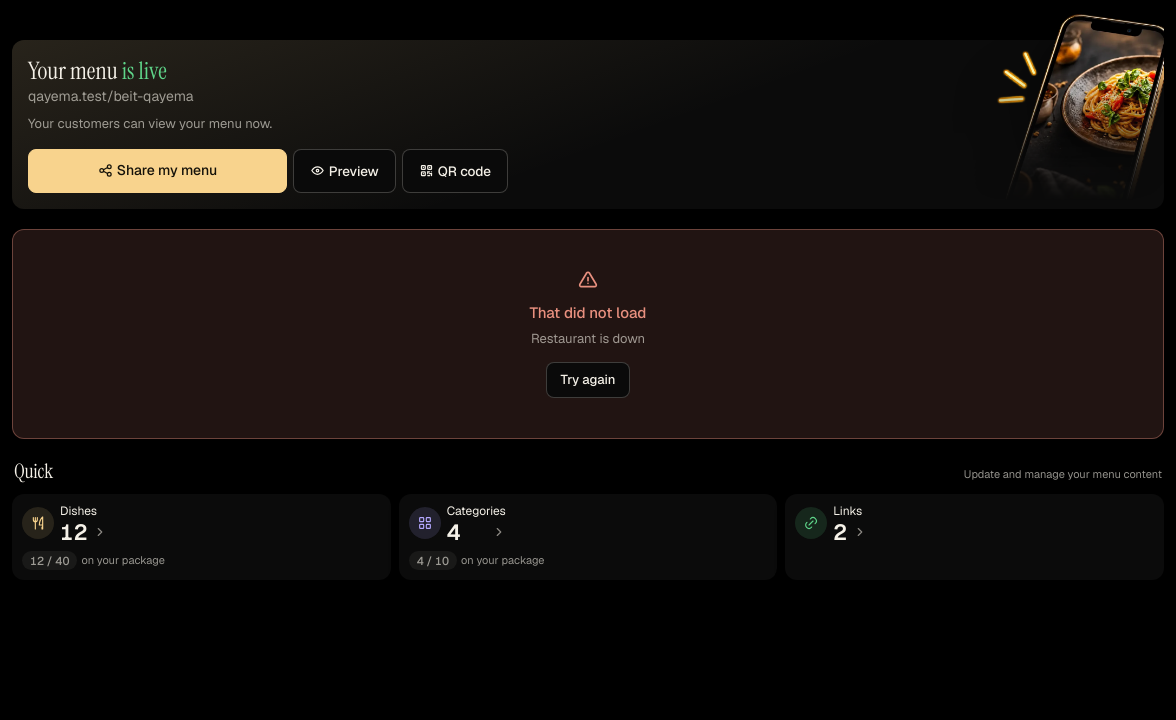
Test: OverviewPage › asks for the restaurant again on a retry, with its message
This screenshot has width=1176, height=720.
Check: the text "Restaurant is down" is shown, box 531,328 -> 645,350
Click the button "Try again".
click(588, 380)  # box 546,362 -> 630,398
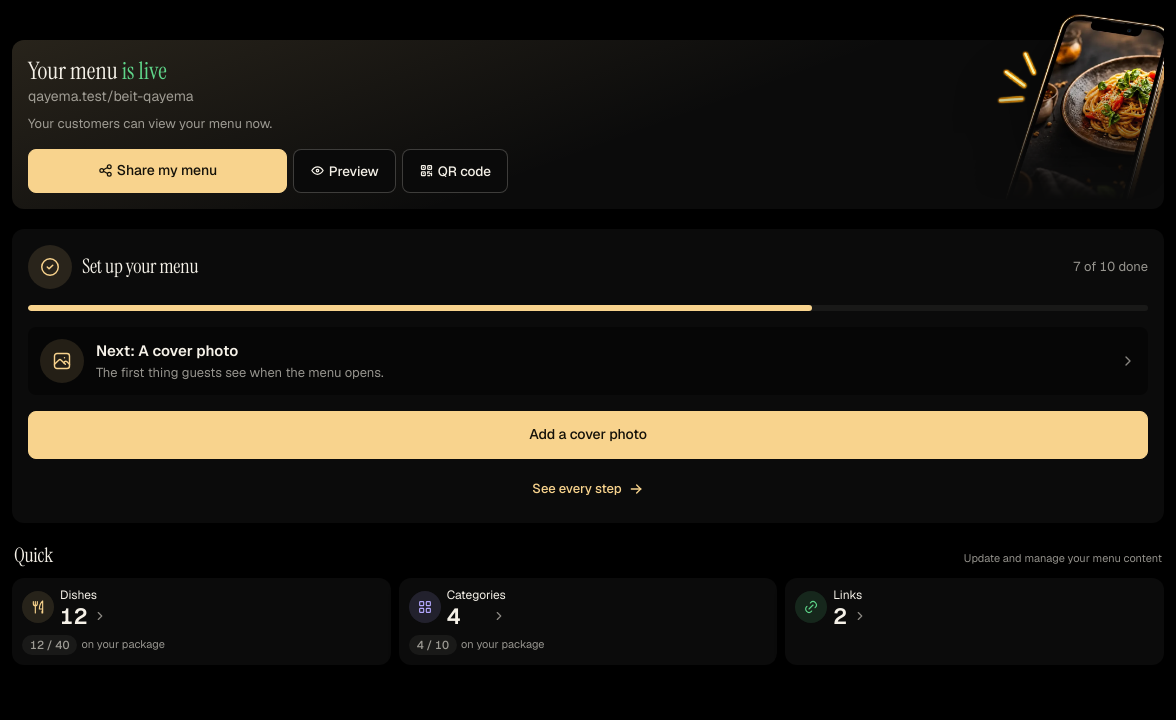
Check: the text "7 of 10 done" is shown, box 1073,257 -> 1148,277
